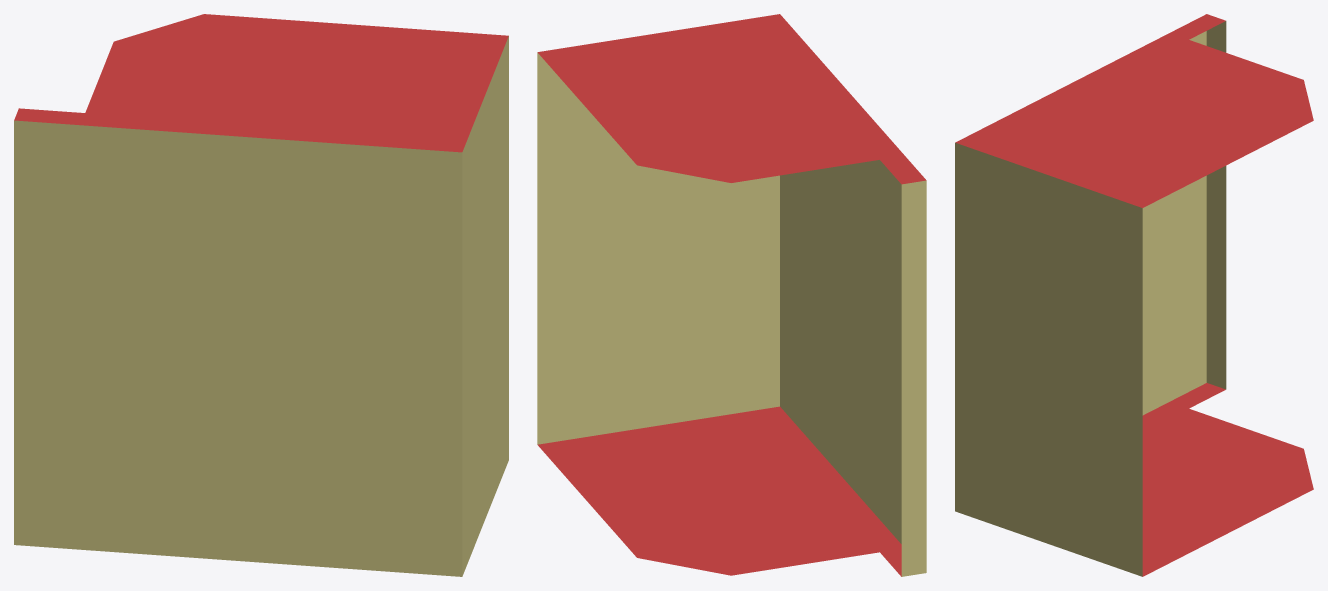
3 renders of one model, left to right at view 1: azimuth 30°, elevation 25°; view 2: azimuth 150°, elevation 25°; view 3: azimuth 270°, elevation 25°, orthographic. The views are drawn at different scales.
Size of the model in its own units: 9.09 by 7.09 by 8.05.
